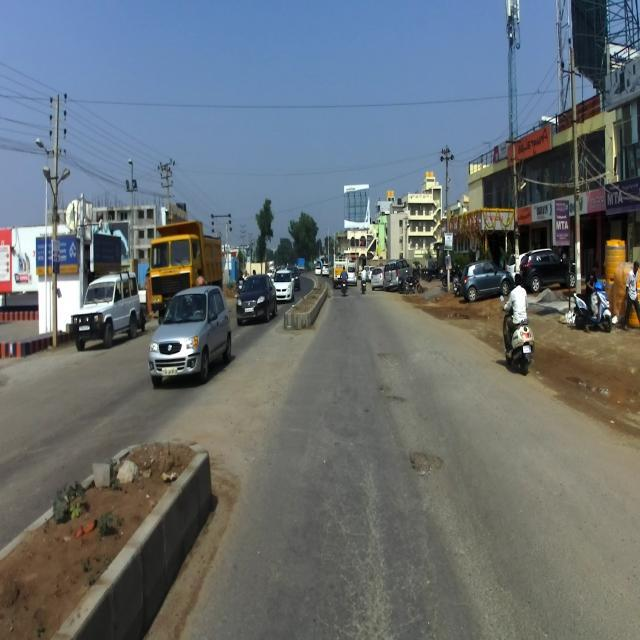pothole: (400, 422, 453, 512), (364, 350, 414, 418)
